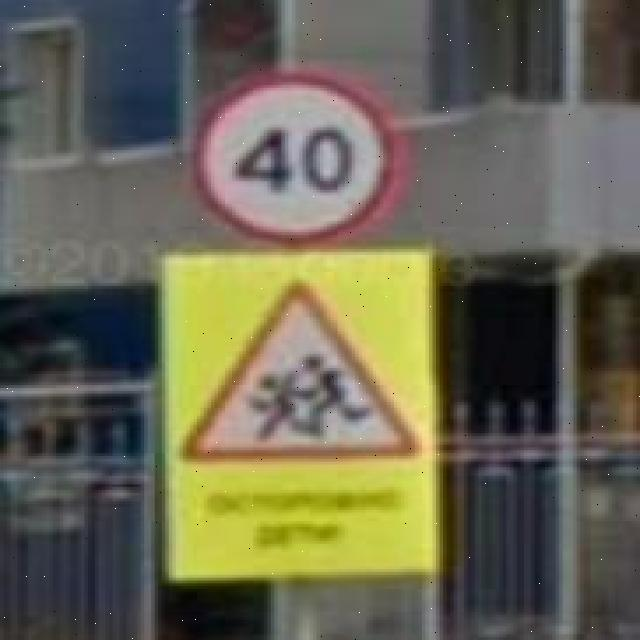speed limit 40: (193, 72, 402, 245)
